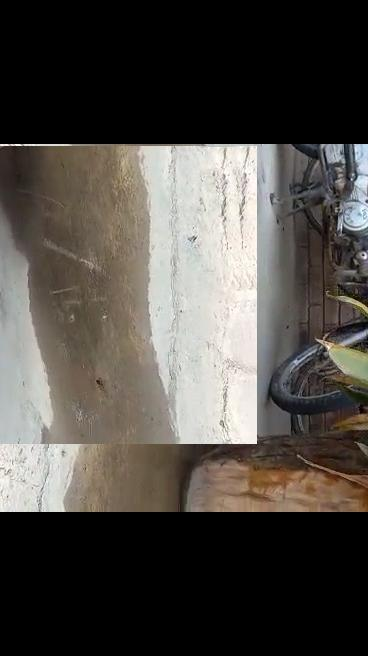water accumulation: (0, 144, 191, 510)
